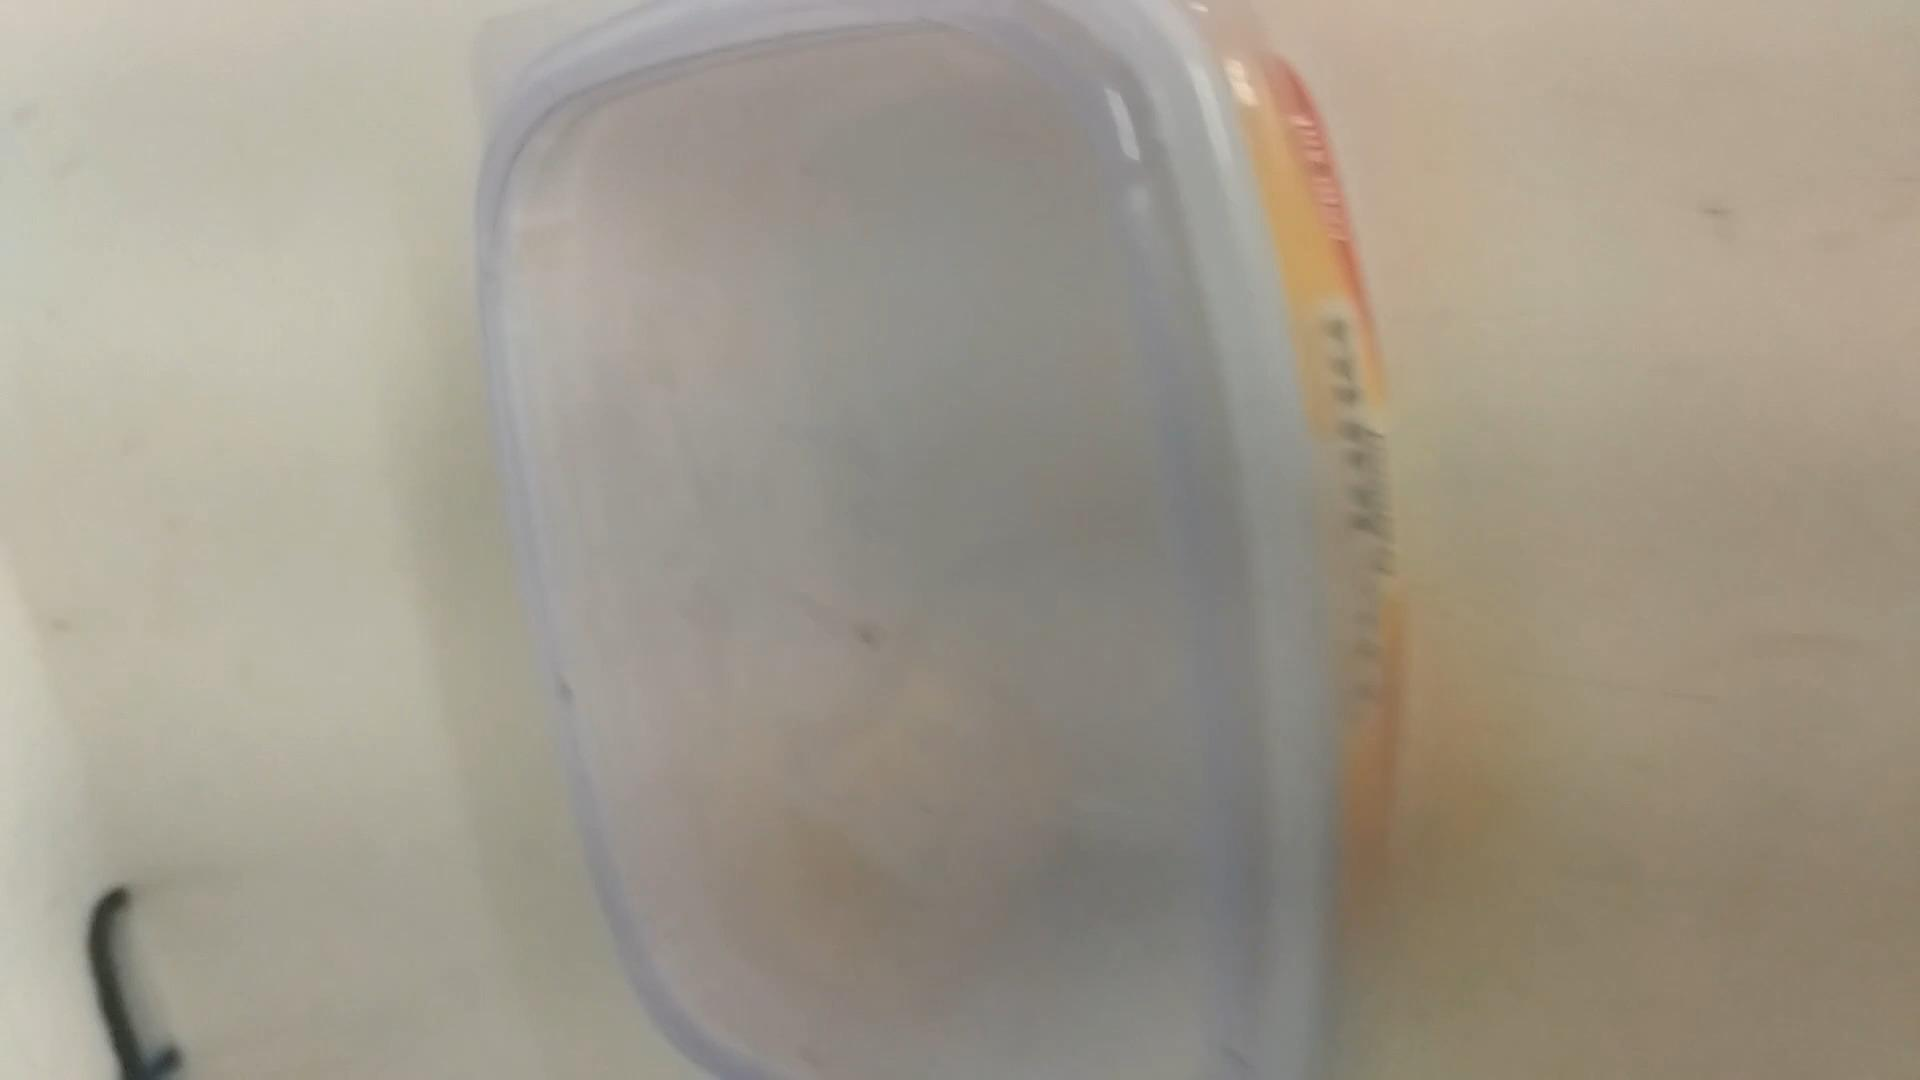butter: (477, 7, 1367, 1080)
